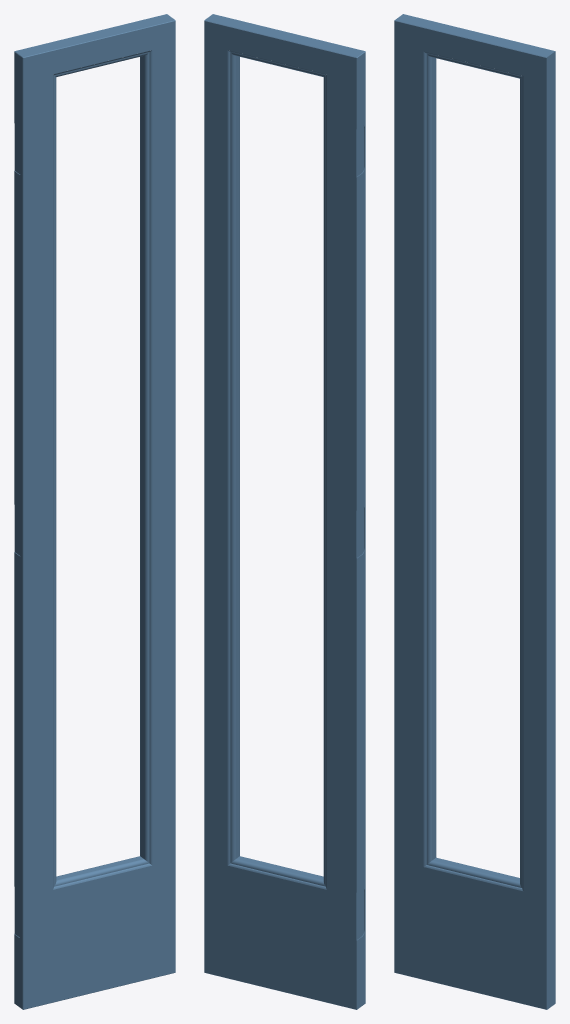
Rendered from 160-inlay-right.glb.
3 renders of one model, left to right at view 1: azimuth 30°, elevation 25°; view 2: azimuth 150°, elevation 25°; view 3: azimuth 330°, elevation 25°, orthographic.
Parts seen in each view (by area): view 1: sideLight; view 2: sideLight; view 3: sideLight.
Boxes of the visible parts, <box> form: sideLight: <box>14,14,175,1009</box>; sideLight: <box>204,14,365,1009</box>; sideLight: <box>394,14,555,1009</box>.
Size of the model in its own units: 34.12 by 203 by 3.49.
